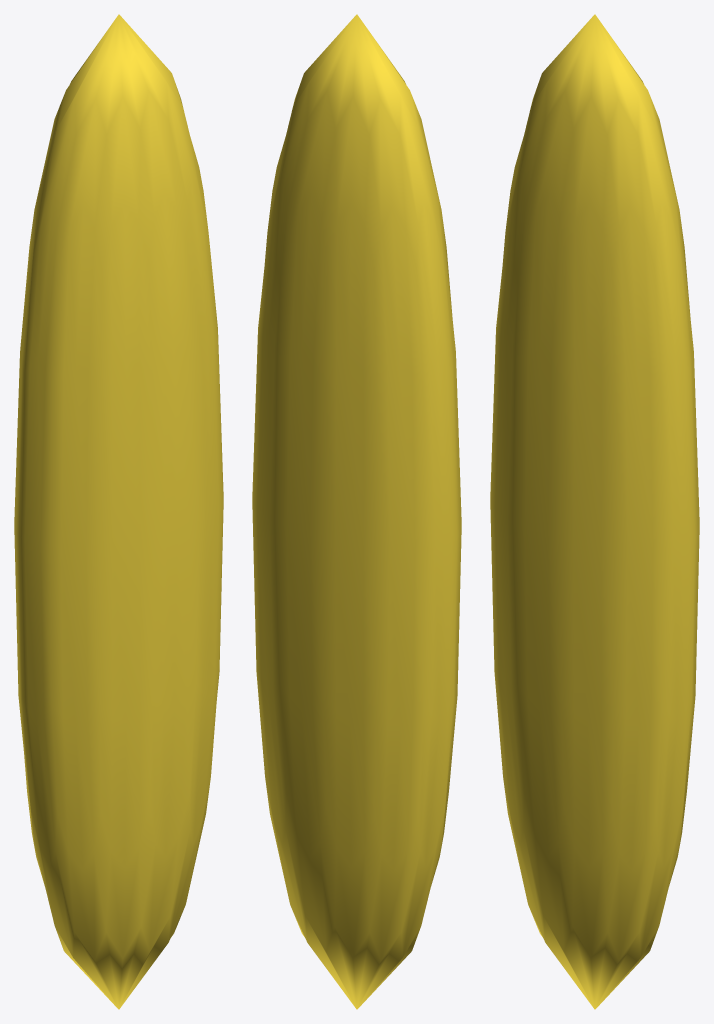
File: AjiAmarillo.fbx
3 renders of one model, left to right at view 1: azimuth 30°, elevation 25°; view 2: azimuth 150°, elevation 25°; view 3: azimuth 330°, elevation 25°, orthographic.
Parts seen in each view (by area): view 1: AjiAmarillo; view 2: AjiAmarillo; view 3: AjiAmarillo.
Part boxes in pixels (bbox=[...]): AjiAmarillo: bbox=[14, 14, 223, 1009]; AjiAmarillo: bbox=[252, 14, 461, 1009]; AjiAmarillo: bbox=[490, 14, 699, 1009].
Size of the model in its own units: 19.22 by 91.5 by 11.53.
